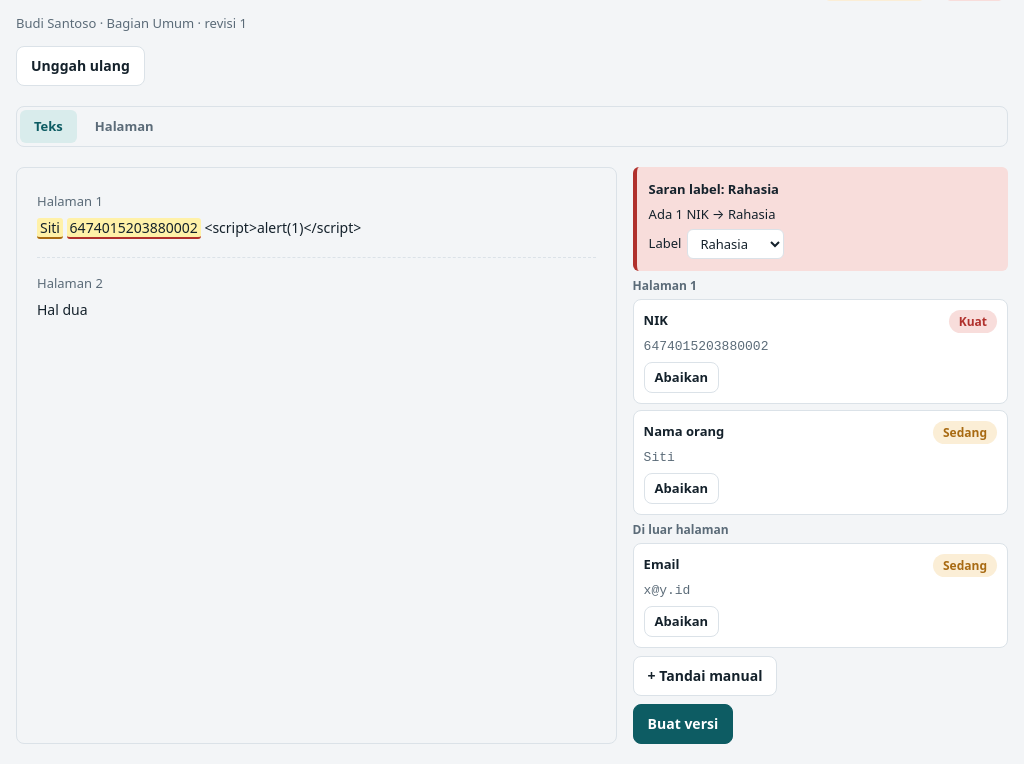
Test: review: manual kinds exclude NAME_EMPLOYEE and start with Nama orang
The width and height of the screenshot is (1024, 764).
(page scrolled)
Check: the text "Hal dua" is shown, box [37,300,88,319]
Click the button "+ Tandai manual".
click(705, 676)  # box [633,656,777,696]
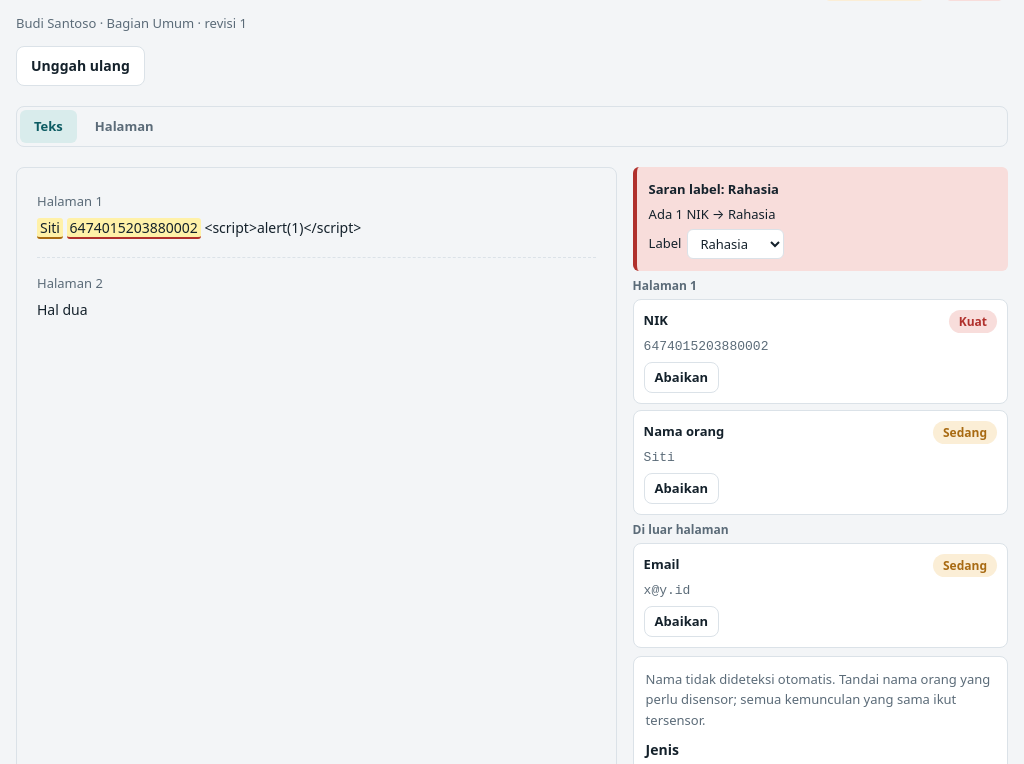
Check: the text "Nama orang" is shown, box [644,422,724,440]
Check: the text "Nama tidak dideteksi otomatis. Tandai nama orang yang perlu disensor; semua kemunculan yang sama ikut tersensor." is shown, box [646,670,990,729]
